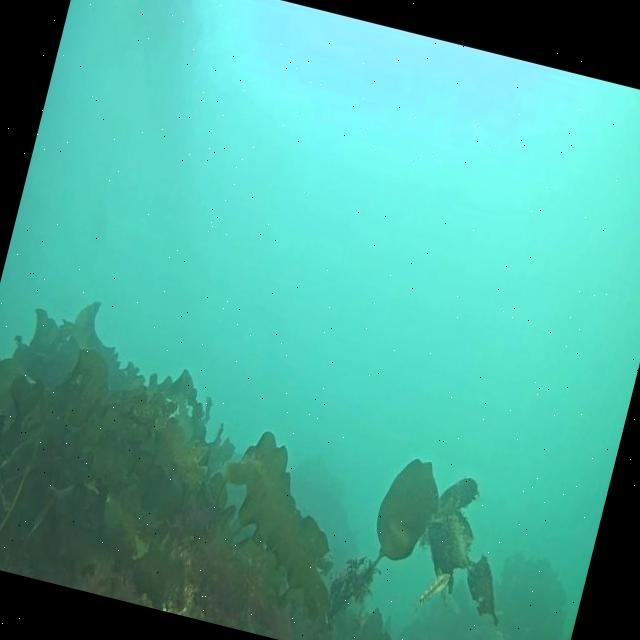fish: (416, 568, 451, 616)
